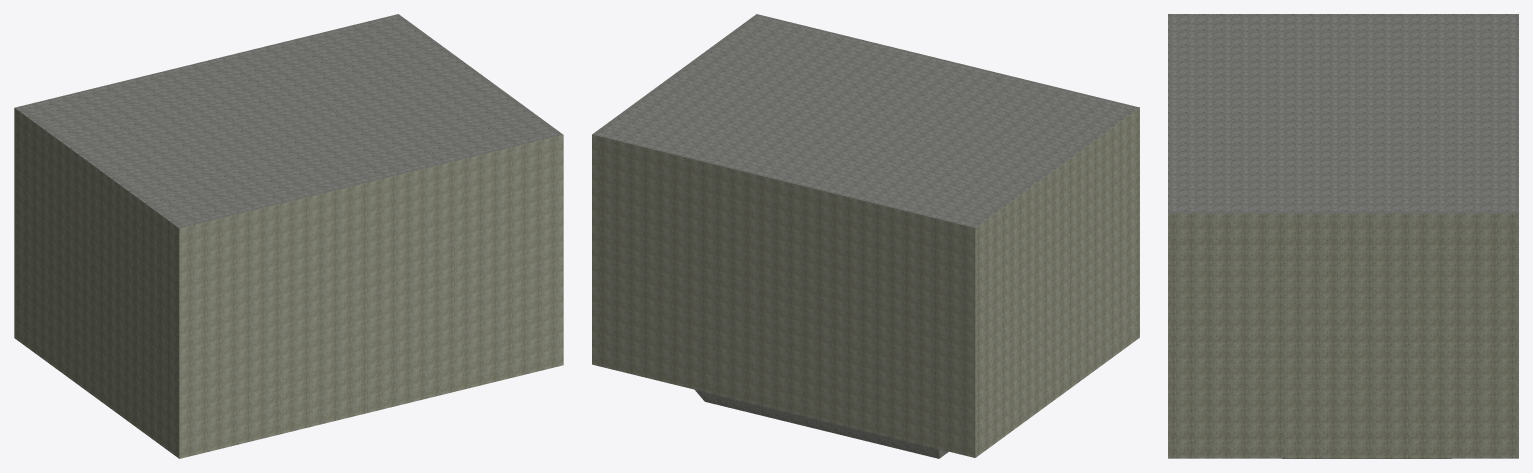
The model's file is map.obj.
The picture shows the model from 3 angles, left to right: view 1: azimuth 30°, elevation 25°; view 2: azimuth 150°, elevation 25°; view 3: azimuth 270°, elevation 25°; orthographic projection. The views are drawn at different scales.
Visible parts, largest first — view 1: Plane; view 2: Plane; view 3: Plane.
Part boxes in pixels (bbox=[...]): Plane: bbox=[14, 14, 563, 458]; Plane: bbox=[592, 14, 1139, 458]; Plane: bbox=[1168, 14, 1518, 458].
Bounding box in the file's own units: 25.53 × 17.2 × 18.99.
4 materials, 4 textured.
